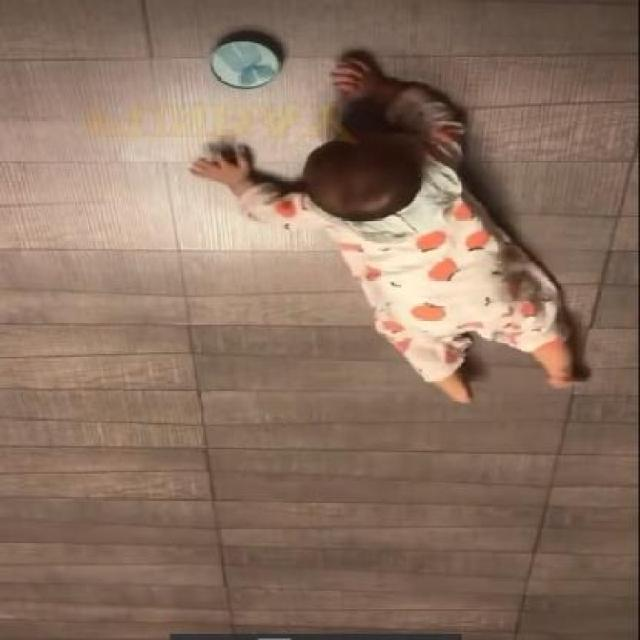baby: (183, 52, 588, 410)
